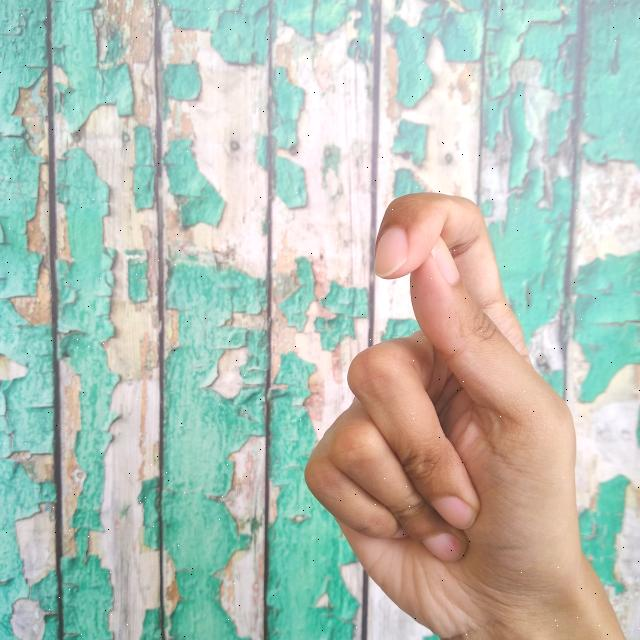X: (298, 186, 625, 640)
